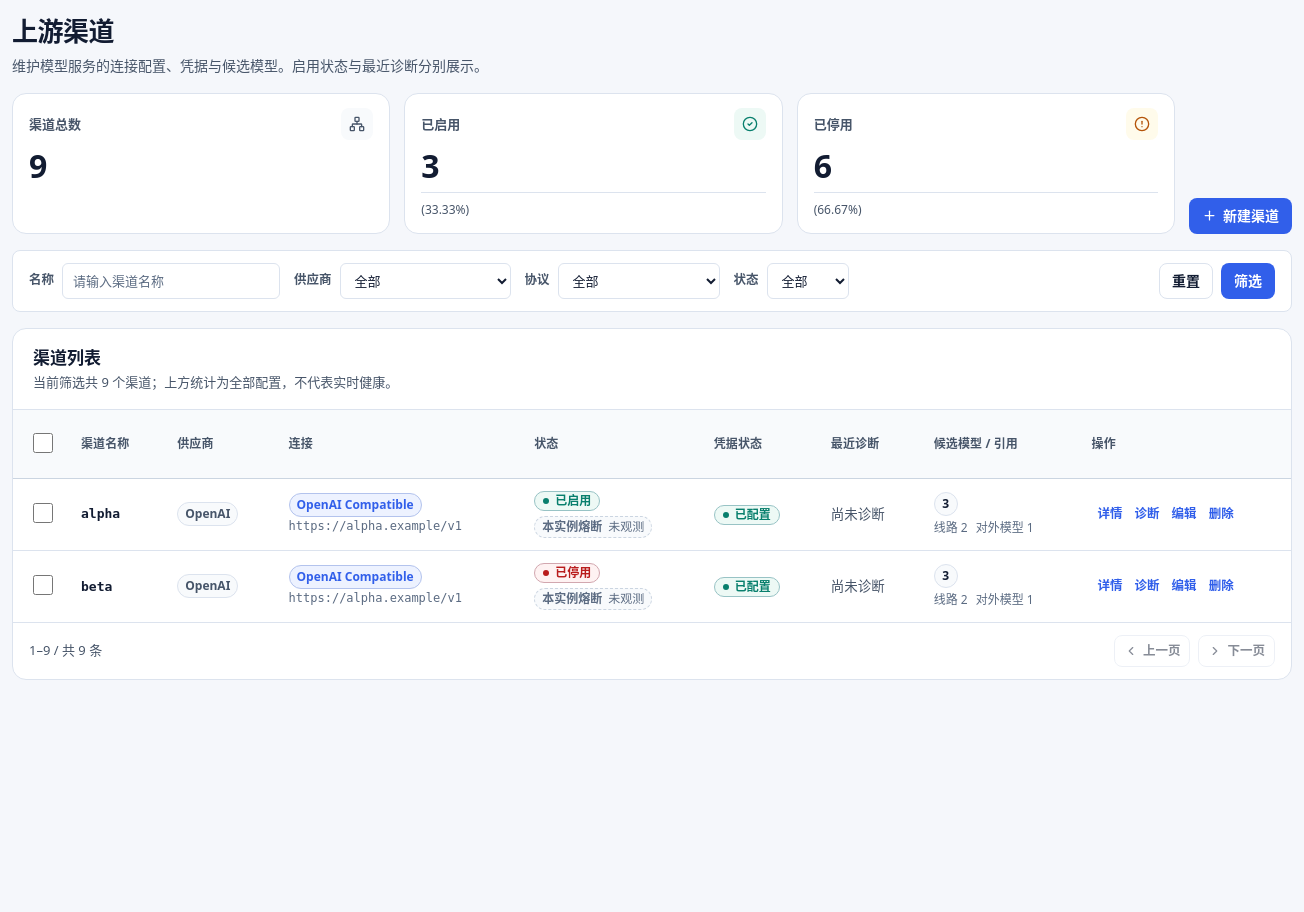
ProvidersPage channel summary › counts the whole channel list and keeps those totals when the table is filtered
Expected: the text "alpha" is shown, x1=81 y1=506 x2=120 y2=521
Expected: the text "9" is shown, x1=29 y1=148 x2=47 y2=184
Type "alpha" into the field with placeholder "请输入渠道名称".
click(171, 281); type("alpha")  # box x1=62 y1=263 x2=280 y2=299
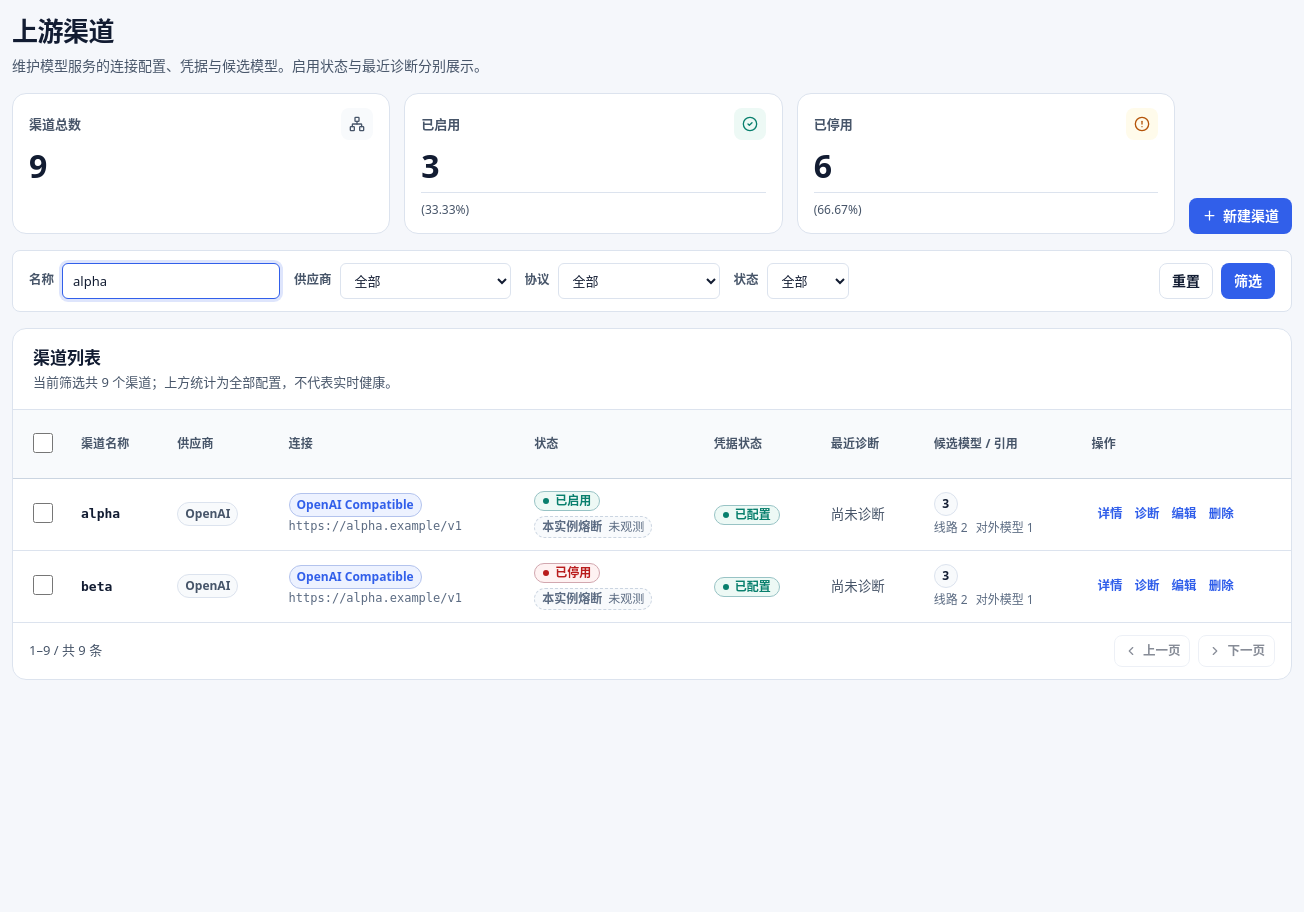
Click the button "筛选".
click(1248, 281)  # box x1=1221 y1=263 x2=1275 y2=299
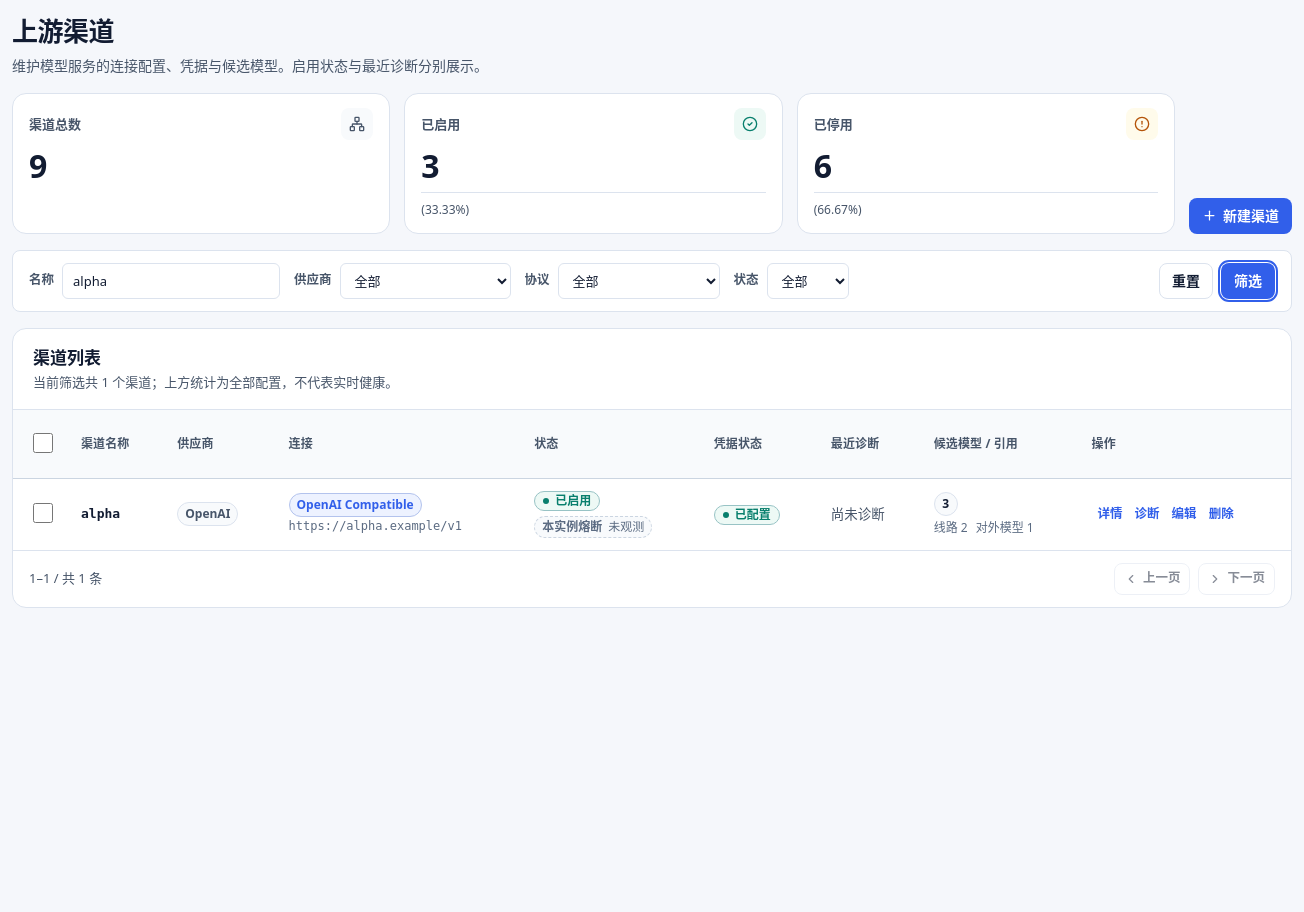
Expected: the text "9" is shown, x1=29 y1=148 x2=47 y2=184
Result: the text "beta" is gone
